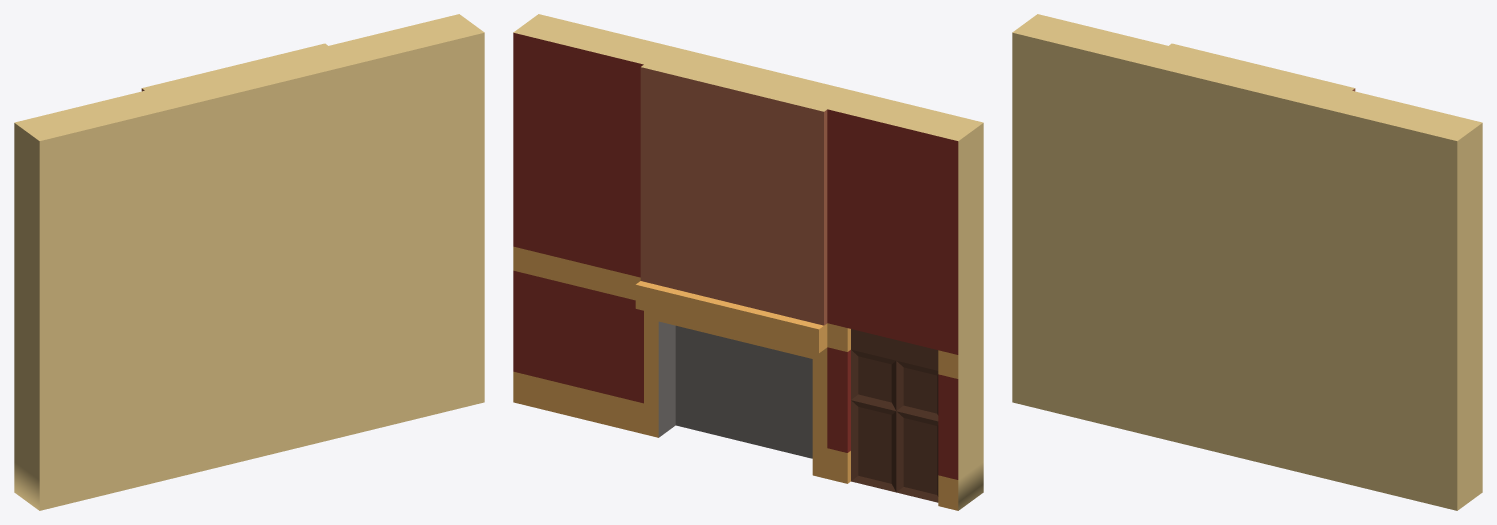
The model's file is BureauJuge_Mur00.fbx.
The picture shows the model from 3 angles, left to right: view 1: azimuth 30°, elevation 25°; view 2: azimuth 150°, elevation 25°; view 3: azimuth 330°, elevation 25°; orthographic projection.
Parts seen in each view (by area): view 1: Mur00; view 2: Mur00; view 3: Mur00.
Part boxes in pixels (x1,y1,x2,y2): Mur00: (14,14,484,510); Mur00: (513,14,983,510); Mur00: (1012,14,1482,510).
Size of the model in its own units: 8.17 by 6.49 by 1.08.
